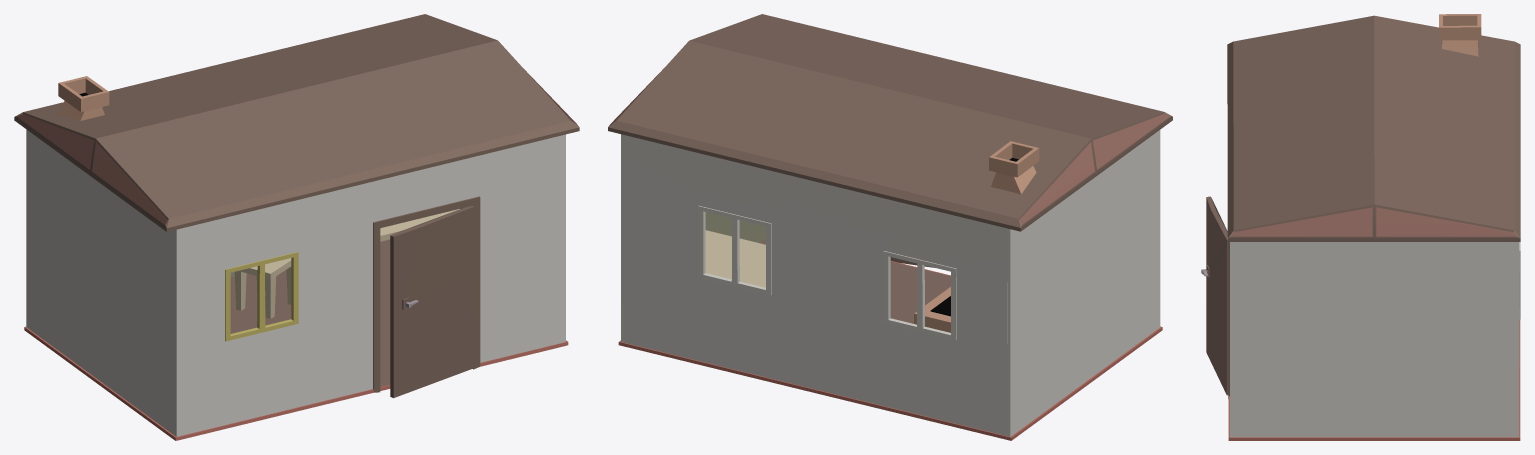
Rendered from Dummy_house_3_2_fbx.fbx.
3 renders of one model, left to right at view 1: azimuth 30°, elevation 25°; view 2: azimuth 150°, elevation 25°; view 3: azimuth 270°, elevation 25°, orthographic. The views are drawn at different scales.
Visible parts, largest first — view 1: Rooftop_bottom, Front_wall, Floor_walls, Doors, Door_rama, Front_Window, Oven, Chair; view 2: Back_Wall, Rooftop_bottom, Floor_walls, Oven, Table, Back_Window1, Back_Window2; view 3: Rooftop_bottom, Floor_walls, Doors, Oven.
Boxes of the visible parts, x1=… form: Rooftop_bottom: x1=14, y1=14, x2=579, y2=231; Front_wall: x1=176, y1=134, x2=564, y2=436; Floor_walls: x1=24, y1=129, x2=568, y2=440; Doors: x1=390, y1=205, x2=474, y2=398; Door_rama: x1=373, y1=196, x2=480, y2=392; Front_Window: x1=225, y1=252, x2=298, y2=341; Oven: x1=57, y1=76, x2=109, y2=120; Chair: x1=234, y1=258, x2=291, y2=318; Back_Wall: x1=621, y1=134, x2=1007, y2=435; Rooftop_bottom: x1=608, y1=14, x2=1172, y2=231; Floor_walls: x1=618, y1=130, x2=1162, y2=440; Oven: x1=914, y1=141, x2=1039, y2=332; Table: x1=705, y1=230, x2=765, y2=287; Back_Window1: x1=698, y1=205, x2=771, y2=295; Back_Window2: x1=883, y1=251, x2=956, y2=340; Rooftop_bottom: x1=1227, y1=15, x2=1520, y2=241; Floor_walls: x1=1228, y1=242, x2=1520, y2=440; Doors: x1=1206, y1=196, x2=1228, y2=395; Oven: x1=1439, y1=14, x2=1481, y2=56.
Size of the model in its own units: 6.35 by 3.85 by 4.41.
